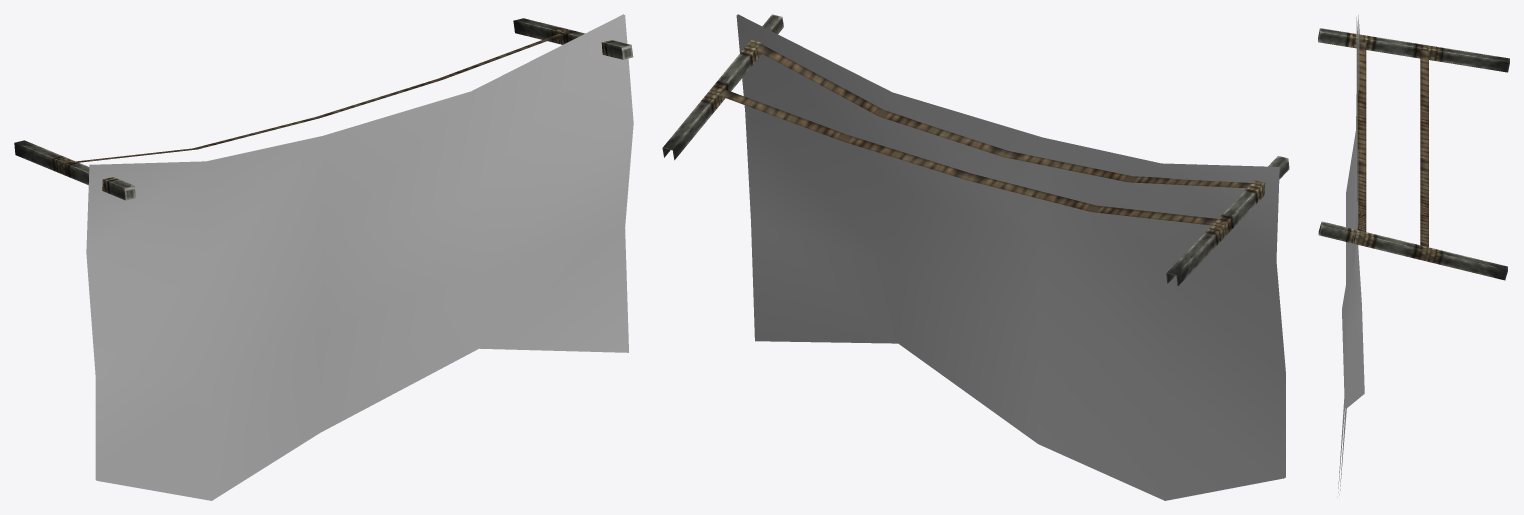
3 renders of one model, left to right at view 1: azimuth 30°, elevation 25°; view 2: azimuth 150°, elevation 25°; view 3: azimuth 270°, elevation 25°, orthographic. The views are drawn at different scales.
Parts seen in each view (by area): view 1: object110; view 2: object110; view 3: object110.
Boxes of the visible parts, x1,y1,x2,y2 form: object110: [14, 14, 633, 500]; object110: [662, 14, 1289, 500]; object110: [1318, 15, 1509, 497].
Bounding box in the file's own units: 284 × 193 × 102.
